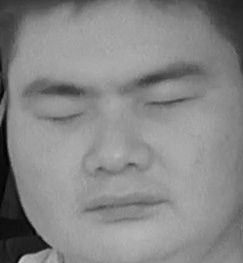blink: (147, 86, 198, 119), (33, 102, 82, 135)
mouth: (80, 182, 170, 230)
